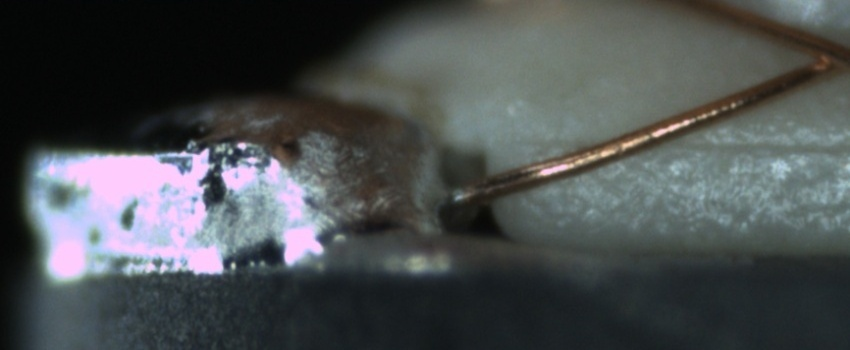CL: (791, 29, 850, 83)
DL: (535, 114, 850, 175)
